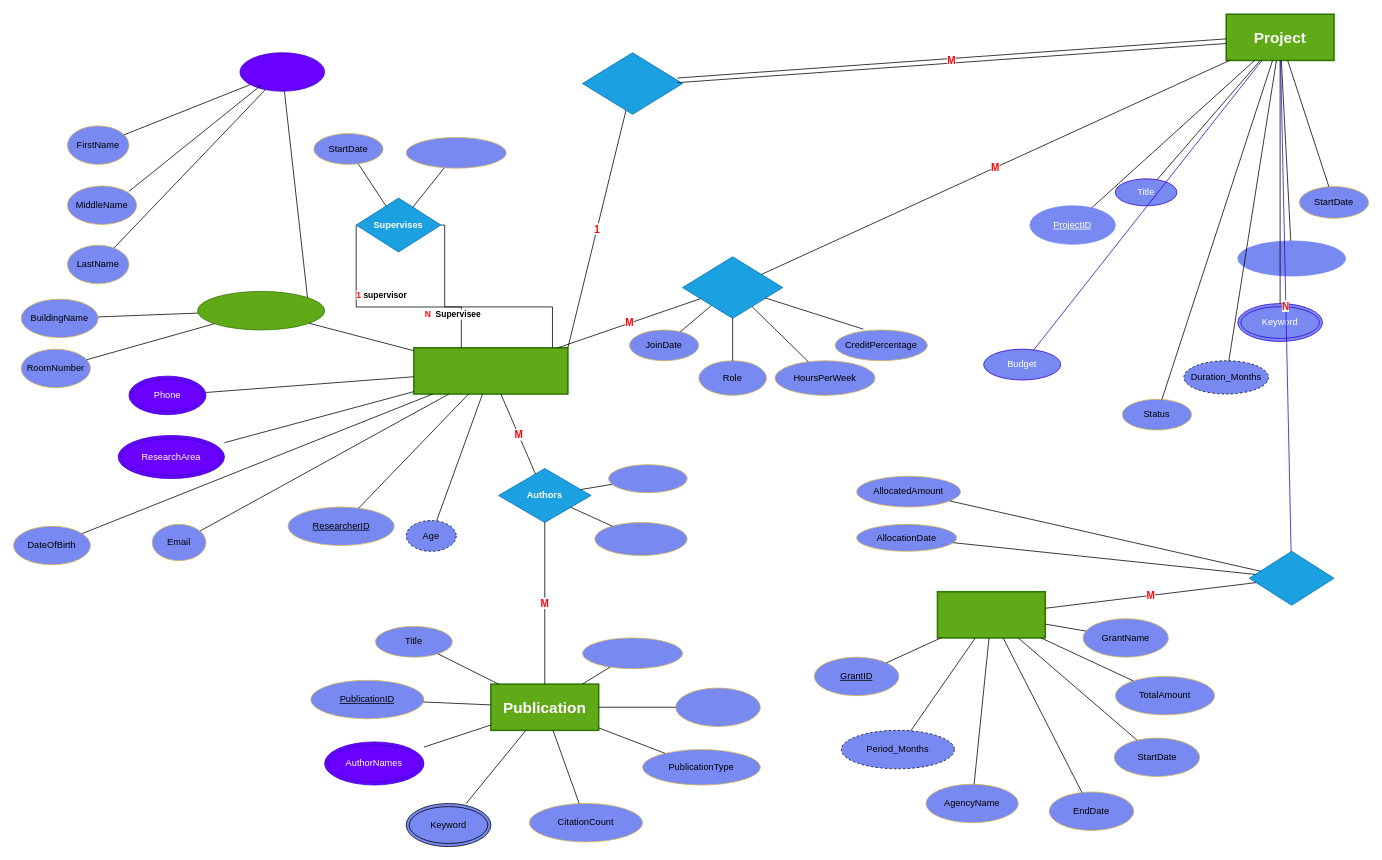
Image size: 1382x860. Some labels were removed from this diagram. The box of each missing label's shape, as (x1, y1, x2, y2) in pixels:
AuthorPosition: (608, 464, 687, 493)
ContributionType: (594, 522, 687, 556)
DOI: (675, 687, 760, 726)
ExpectedEndDate: (1237, 240, 1346, 276)
Funds: (1249, 551, 1334, 605)
Grant: (936, 591, 1046, 638)
Leads (PI): (582, 52, 683, 114)
Name: (239, 52, 325, 91)
Office_Location: (197, 291, 325, 330)
PublicationDate: (582, 637, 683, 669)
Researcher: (413, 347, 568, 394)
SupervisionType: (405, 137, 506, 168)
Works_On: (682, 256, 783, 318)
